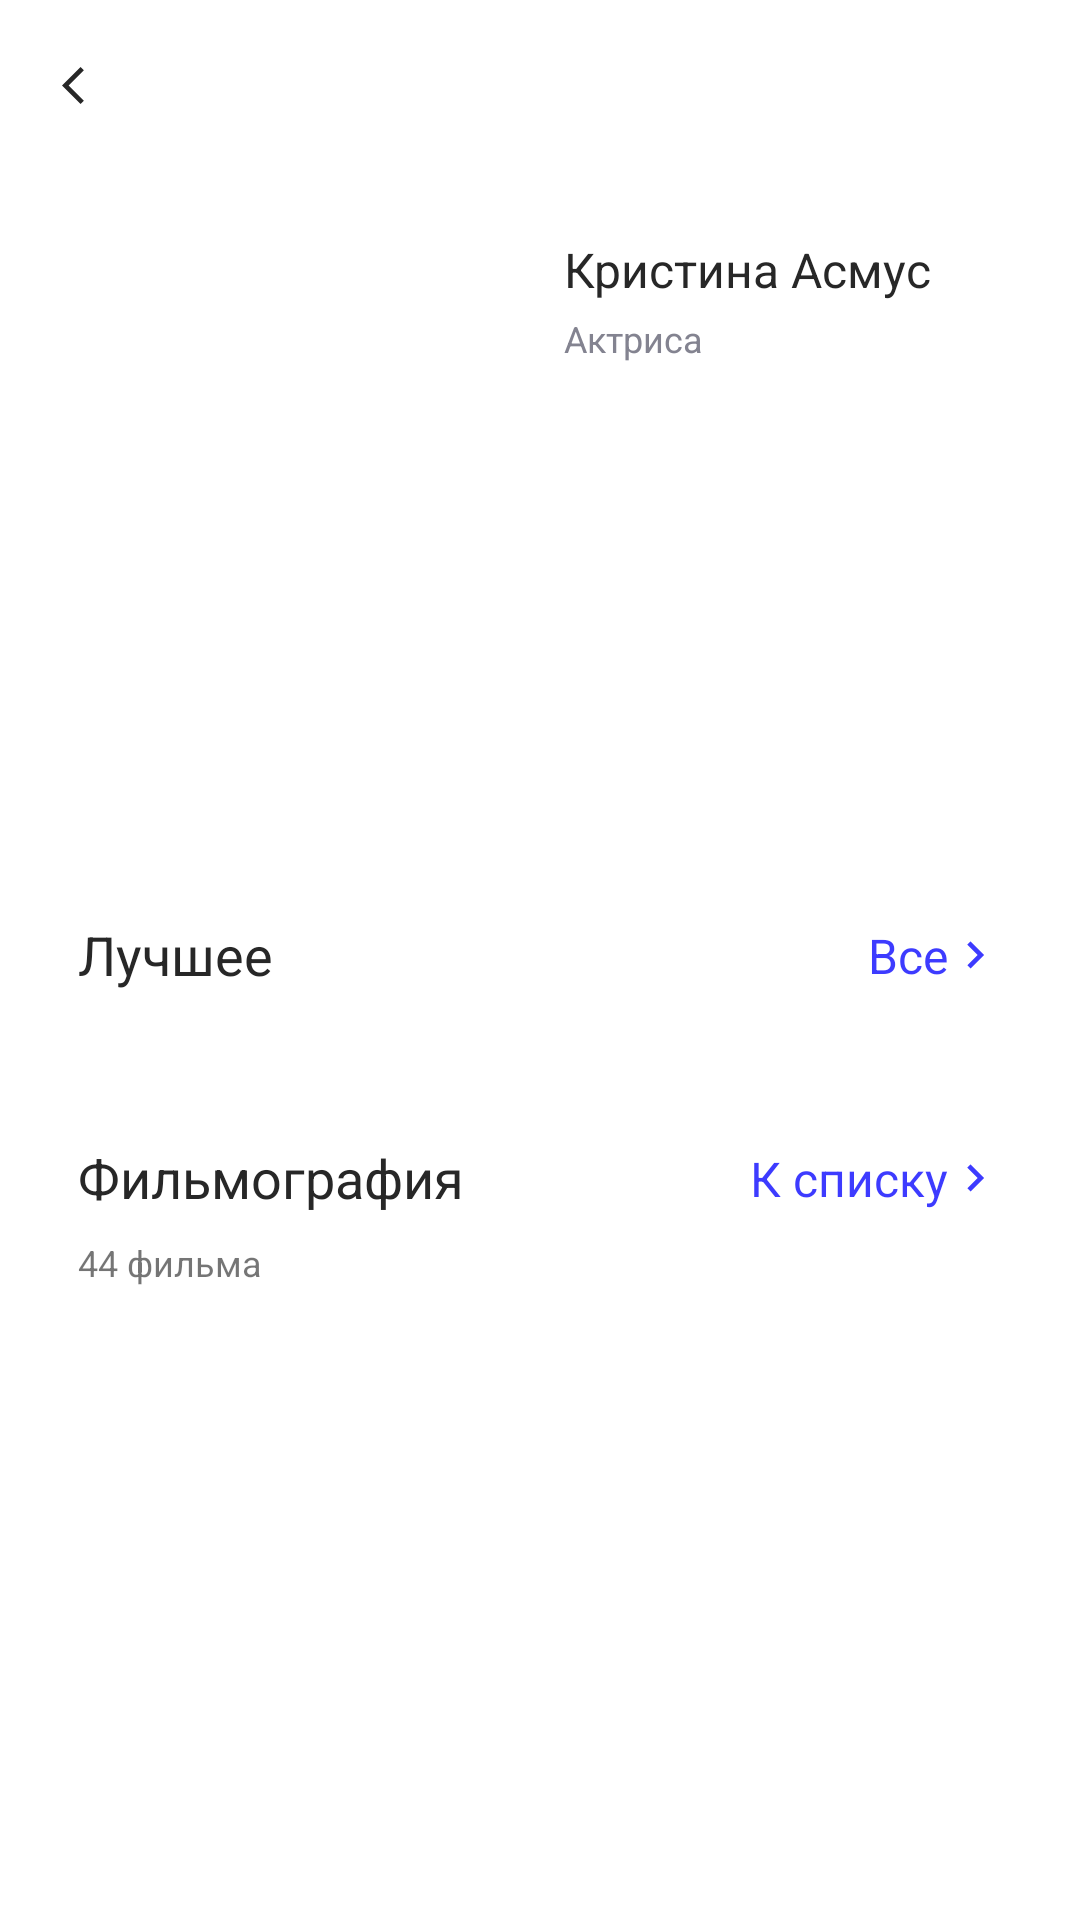

Screen size 1080×1920. Icon name, then its box in pixels as (x1, y1, x2, y2):
arrow back: (62, 67, 84, 104)
navigate next: (967, 941, 984, 969), (967, 1164, 984, 1192)
